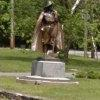Statue: (29, 1, 77, 68)
